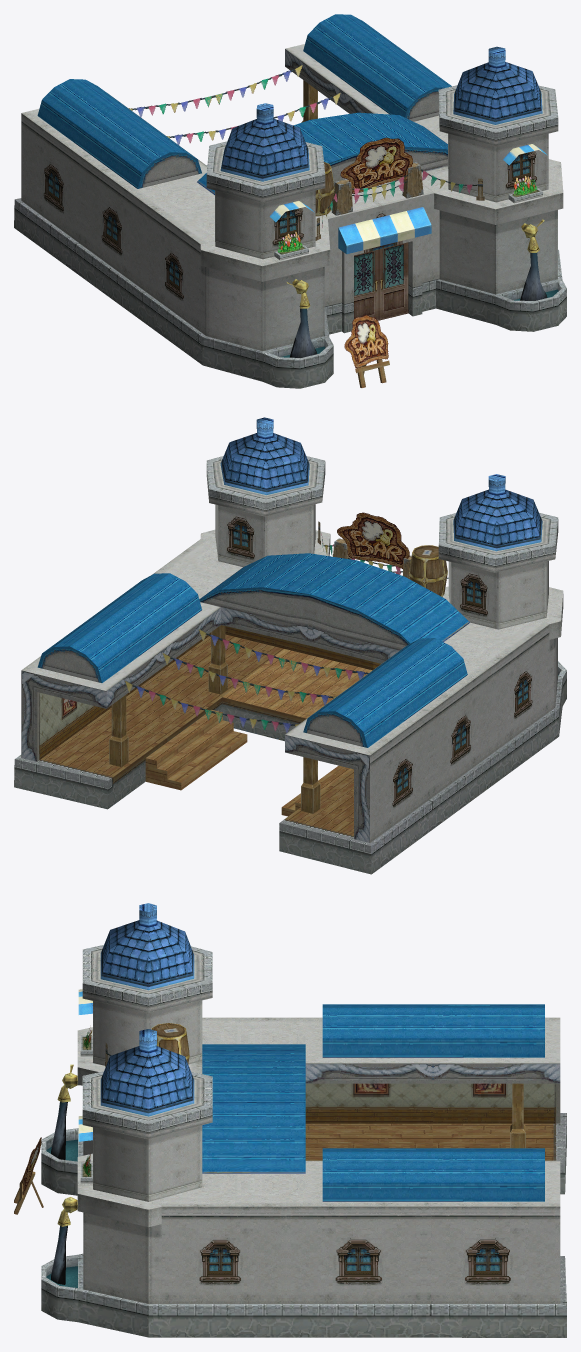
3 renders of one model, top to bottom at view 1: azimuth 30°, elevation 25°; view 2: azimuth 150°, elevation 25°; view 3: azimuth 270°, elevation 25°, orthographic. The views are drawn at different scales.
Parts seen in each view (by area): view 1: geom_node_0, geom_node_2, geom_node_3, geom_node_1, geom_node_6, geom_node_5, geom_node_4, geom_node_8, geom_node_10; view 2: geom_node_0, geom_node_2, geom_node_3, geom_node_1, geom_node_6, geom_node_4; view 3: geom_node_2, geom_node_1, geom_node_3, geom_node_0, geom_node_5, geom_node_10, geom_node_8.
Boxes of the visible parts, <box> form: geom_node_0: <box>136,103,388,388</box>; geom_node_2: <box>310,46,566,331</box>; geom_node_3: <box>14,79,207,319</box>; geom_node_1: <box>285,14,451,126</box>; geom_node_6: <box>315,137,484,240</box>; geom_node_5: <box>344,315,389,387</box>; geom_node_4: <box>129,65,340,165</box>; geom_node_8: <box>289,306,316,357</box>; geom_node_10: <box>520,252,547,300</box>; geom_node_0: <box>310,474,566,781</box>; geom_node_2: <box>152,417,373,741</box>; geom_node_3: <box>279,638,497,874</box>; geom_node_1: <box>14,573,247,809</box>; geom_node_6: <box>317,512,448,578</box>; geom_node_4: <box>124,629,368,733</box>; geom_node_2: <box>41,1029,305,1337</box>; geom_node_1: <box>286,1148,566,1337</box>; geom_node_3: <box>305,1004,566,1194</box>; geom_node_0: <box>41,903,309,1195</box>; geom_node_5: <box>14,1137,43,1214</box>; geom_node_10: <box>51,1225,67,1284</box>; geom_node_8: <box>51,1101,67,1159</box>.
Size of the model in its own units: 11.32 by 7.41 by 13.54.
22 materials, 22 textured.
